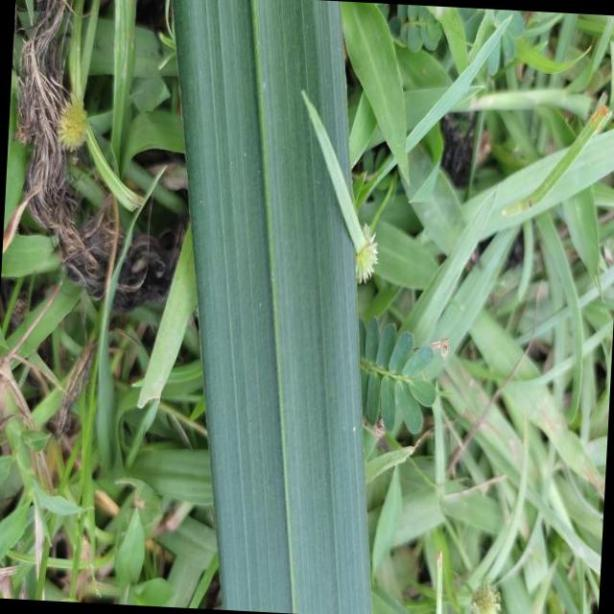Healthy: (172, 1, 377, 614)
